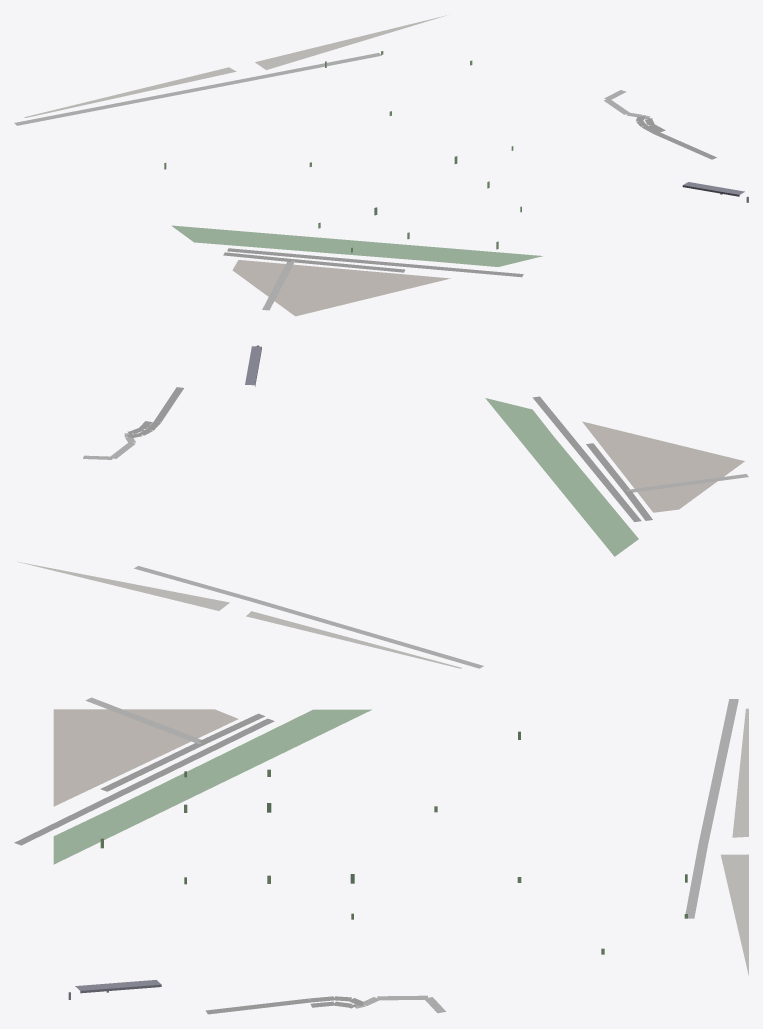
3 renders of one model, top to bottom at view 1: azimuth 30°, elevation 25°; view 2: azimuth 150°, elevation 25°; view 3: azimuth 270°, elevation 25°, orthographic. The views are drawn at different scales.
Bounding box in the file's own units: 533 × 12.4 × 528.
